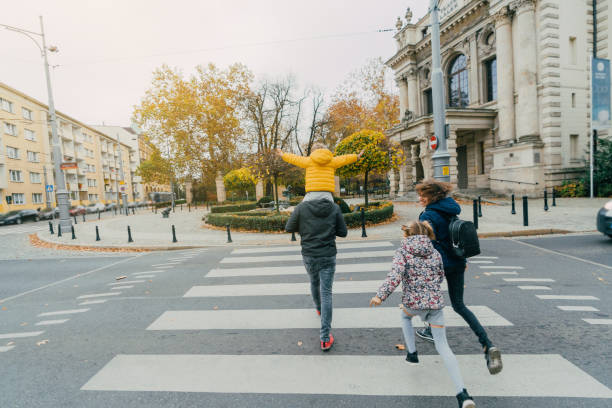yaya: (369, 172, 489, 395), (270, 131, 367, 378)
